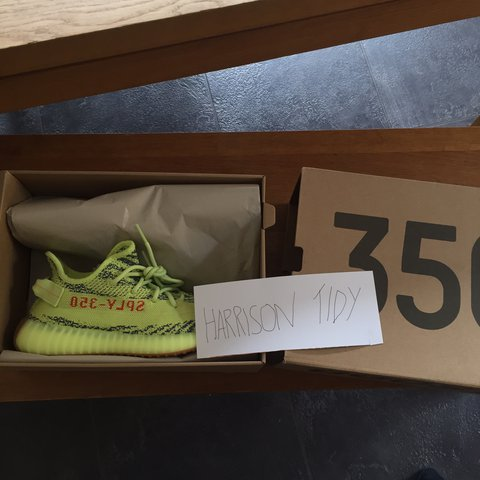Yeezy Semi-Frozen: (10, 222, 263, 363)
